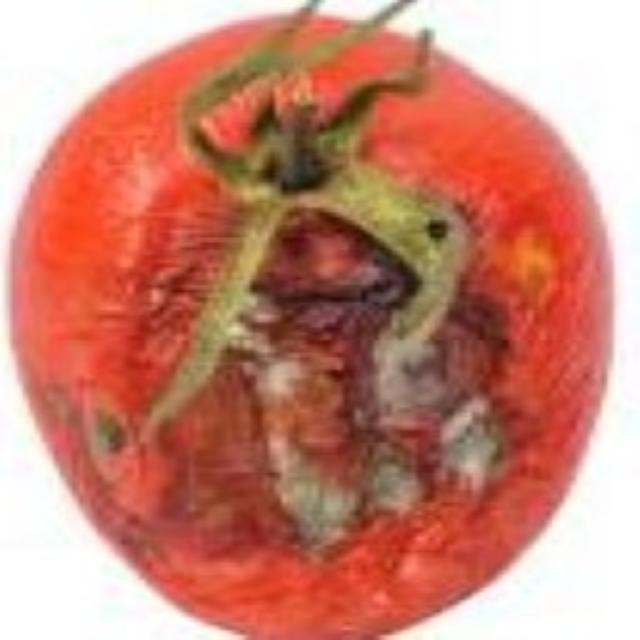defect: (0, 8, 618, 640)
